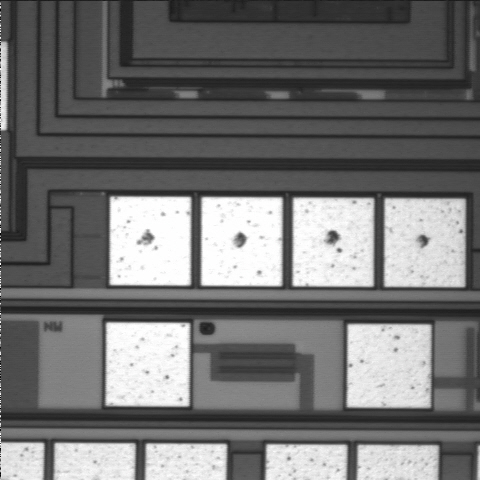pad: (110, 197, 191, 286), (201, 197, 282, 286), (293, 198, 374, 287), (384, 199, 465, 287), (347, 324, 431, 408), (106, 323, 190, 406)
